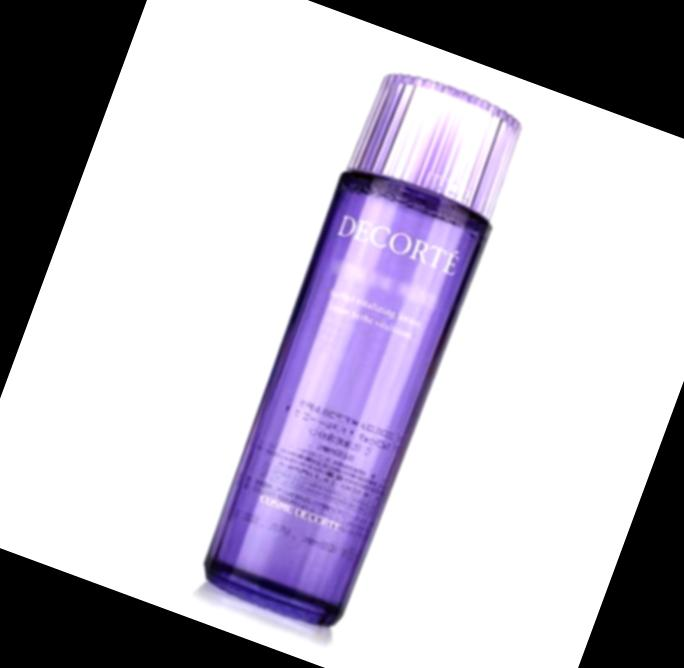cosmetic: (182, 63, 534, 638)
